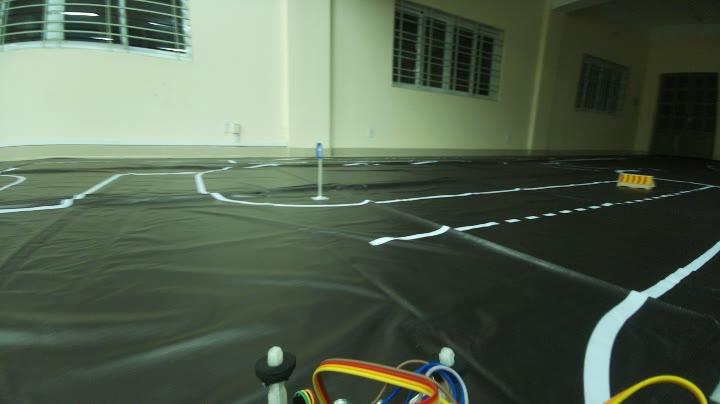onewayroad: (312, 139, 322, 158)
